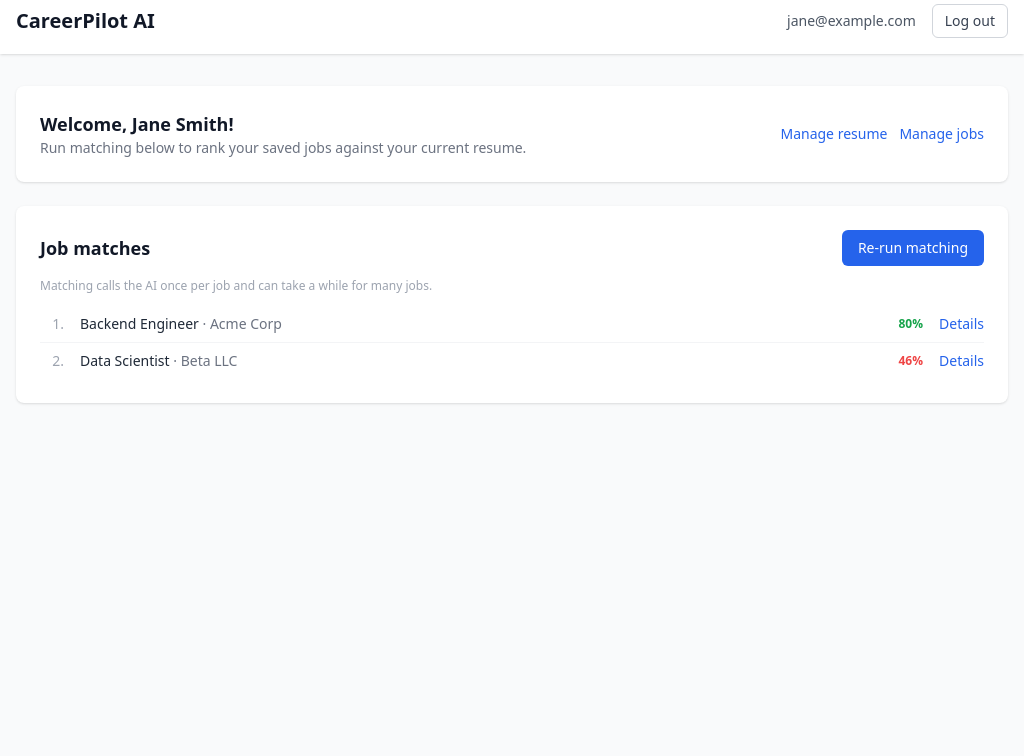
expanding a row shows the explanation; a null explanation shows a warning
Expected: the text "Backend Engineer" is shown, [80,314,199,333]
Click the button "Details" next to "80%": (962, 324) [939,314,984,334]
(page scrolled)
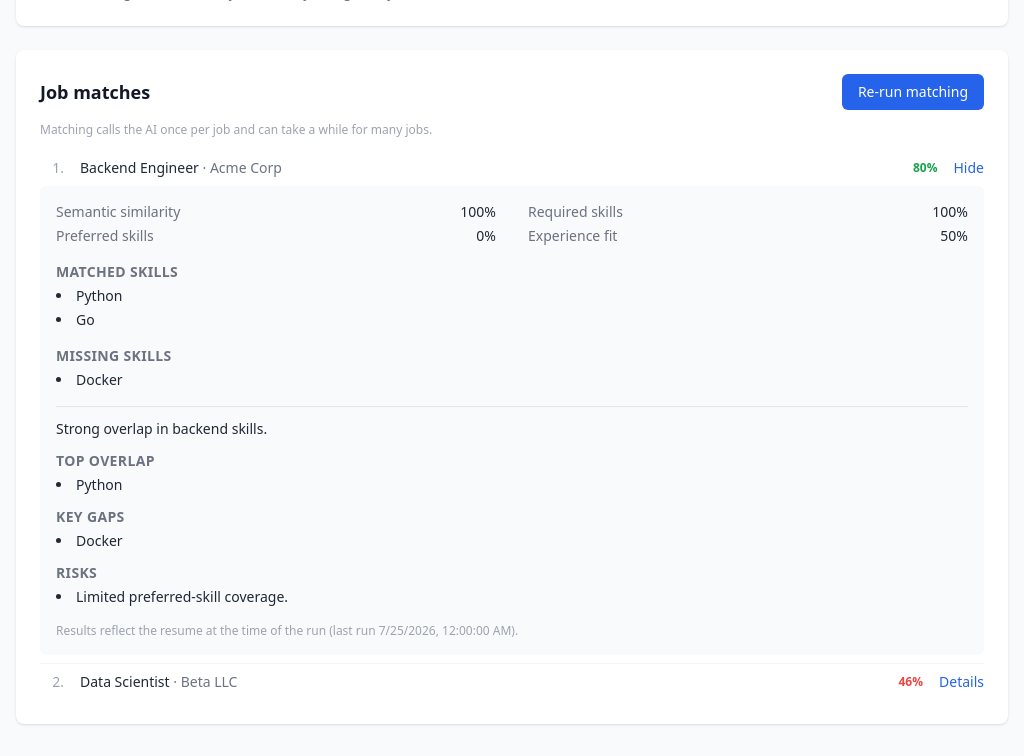
Now the text "Strong overlap in backend skills." is shown, box [56,419,267,438]
Now the heading "Risks" is shown, box [56,563,97,582]
Now the list item "Limited preferred-skill coverage." is shown, box [76,587,288,606]
Click the button "Details": (962, 682) [939,672,984,692]
(page scrolled)
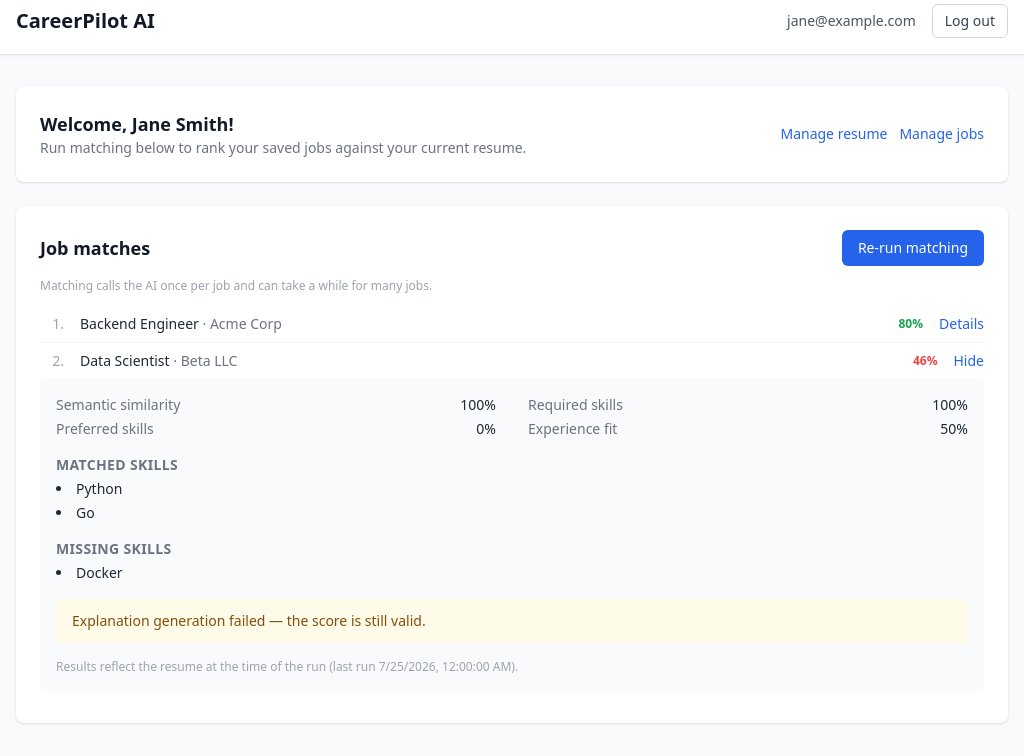
Now the text "Explanation generation failed — the score is still valid." is shown, box [56,599,968,643]
